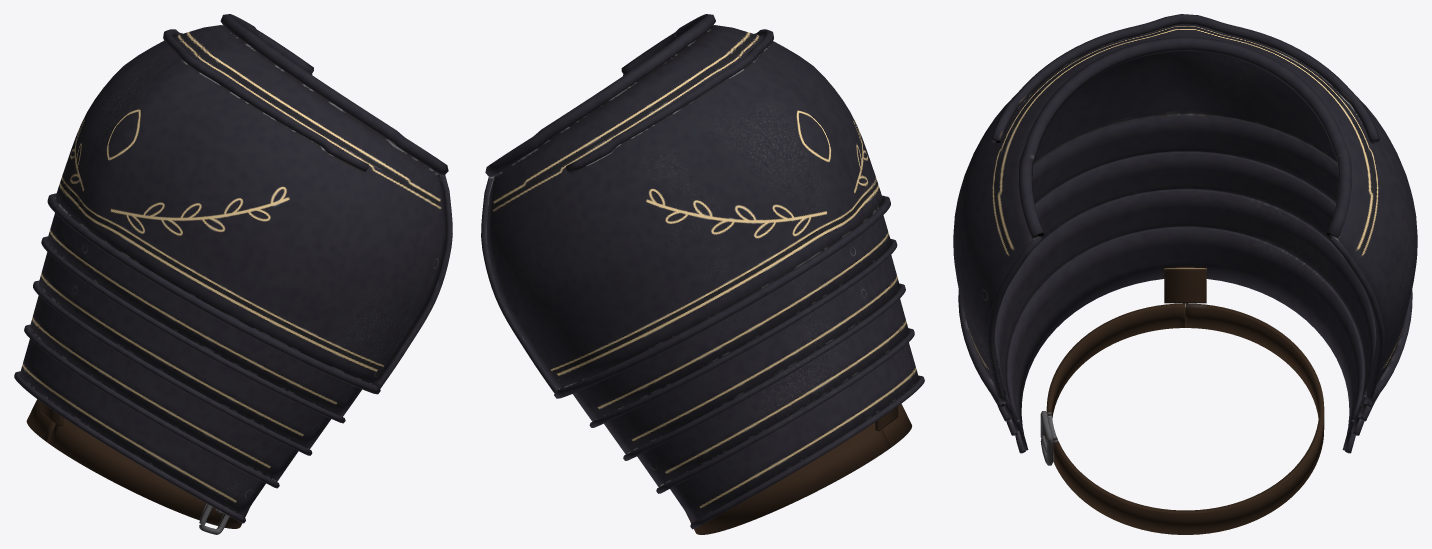
Rendered from SM_ObsidianSovereign_Shoulders_R.fbx.
3 renders of one model, left to right at view 1: azimuth 30°, elevation 25°; view 2: azimuth 150°, elevation 25°; view 3: azimuth 270°, elevation 25°, orthographic. The views are drawn at different scales.
Visible parts, largest first — view 1: SM_ObsidianSovereign_Shoulders_R; view 2: SM_ObsidianSovereign_Shoulders_R; view 3: SM_ObsidianSovereign_Shoulders_R.
Boxes of the visible parts, x1=… form: SM_ObsidianSovereign_Shoulders_R: x1=14, y1=14, x2=452, y2=534; SM_ObsidianSovereign_Shoulders_R: x1=481, y1=14, x2=924, y2=534; SM_ObsidianSovereign_Shoulders_R: x1=953, y1=14, x2=1417, y2=534.
Bounding box in the file's own units: 26.76 × 28.49 × 34.74.
